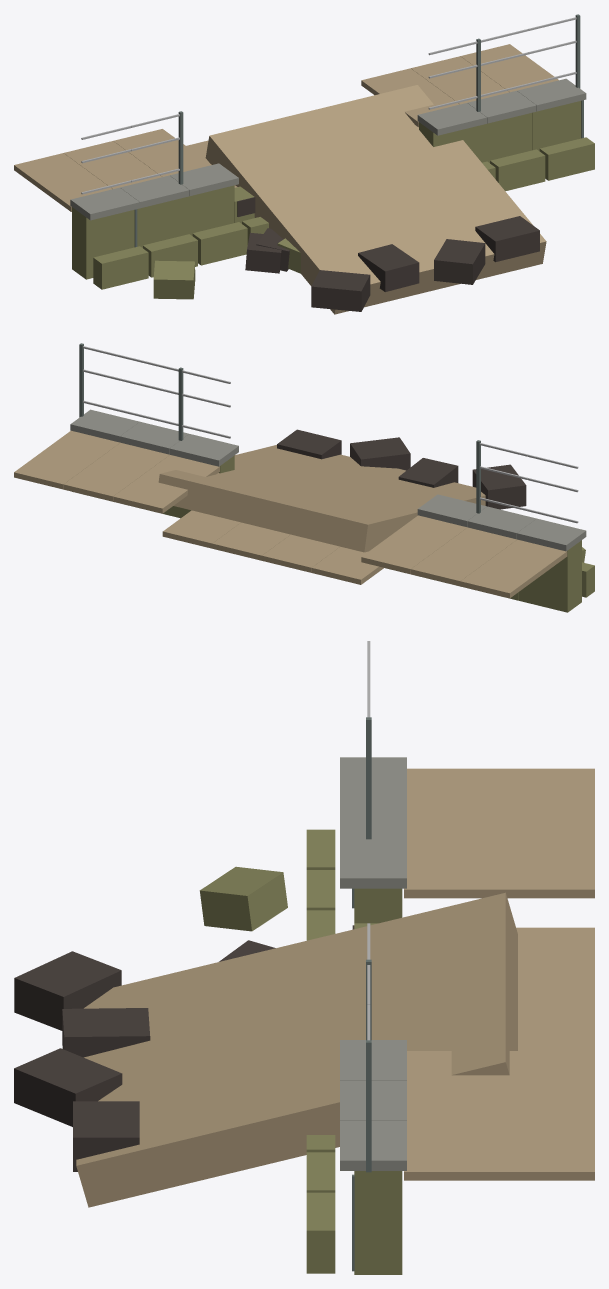
File: SM_MuroRampa_v1_BajoValla_e3_Brecha_LOD0.fbx
3 renders of one model, top to bottom at view 1: azimuth 30°, elevation 25°; view 2: azimuth 150°, elevation 25°; view 3: azimuth 270°, elevation 25°, orthographic. The views are drawn at different scales.
Parts seen in each view (by area): view 1: SM_muro_rampa_v7_LOD0; view 2: SM_muro_rampa_v7_LOD0; view 3: SM_muro_rampa_v7_LOD0.
Boxes of the visible parts, x1=… form: SM_muro_rampa_v7_LOD0: x1=14, y1=14, x2=594, y2=314; SM_muro_rampa_v7_LOD0: x1=14, y1=343, x2=594, y2=612; SM_muro_rampa_v7_LOD0: x1=14, y1=641, x2=594, y2=1274.
Bounding box in the file's own units: 10.03 × 3.04 × 6.09.
